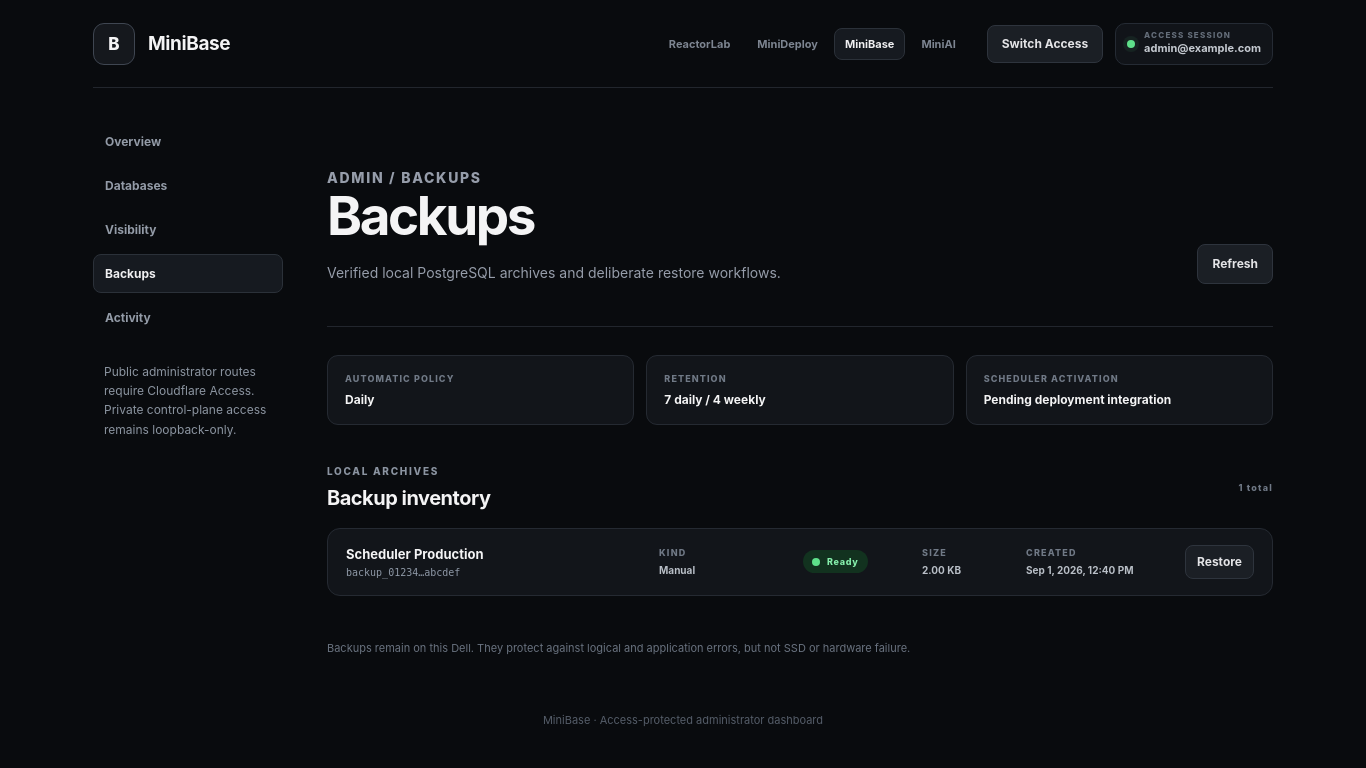
MiniBase dashboard › restore dialog defaults to safe new-database mode
The image size is (1366, 768).
Click the button "Restore" at point(1220, 562), box 1185,545 -> 1254,579
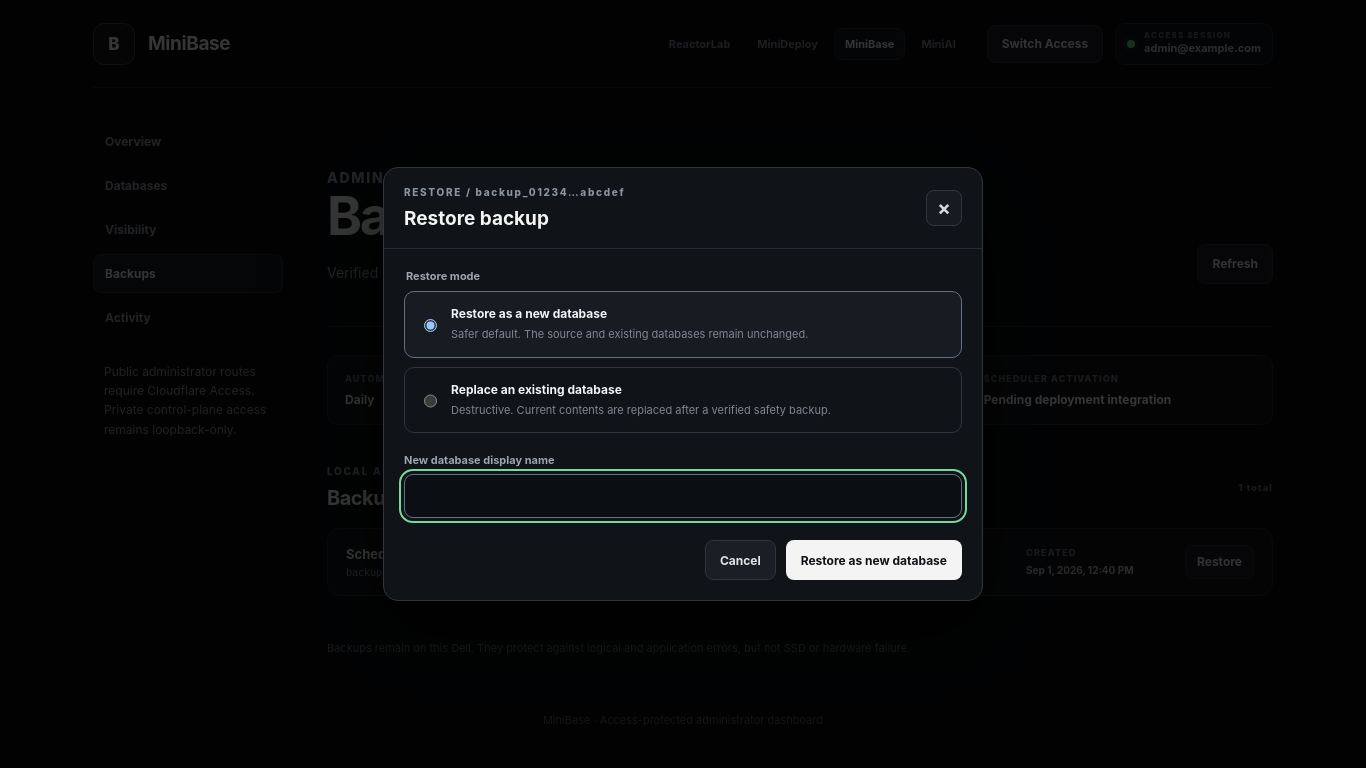
expect the radio button labelled "Restore as a new database" is checked: met, box 424,308 -> 437,342
Type "  Recovered Database  " into the field labelled "New database display name" at point(683, 496), box 404,474 -> 962,518
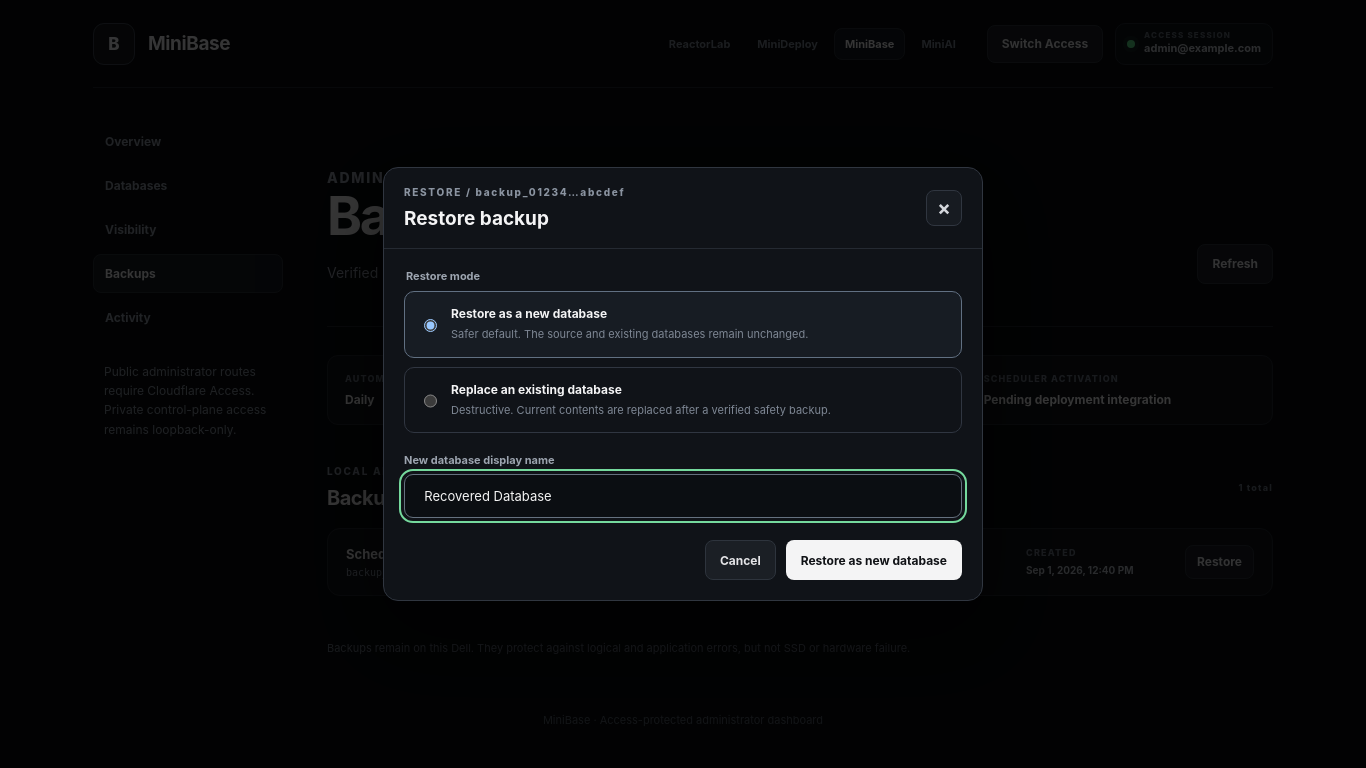
Click the button "Restore as new database" at point(874, 560), box 786,540 -> 962,580
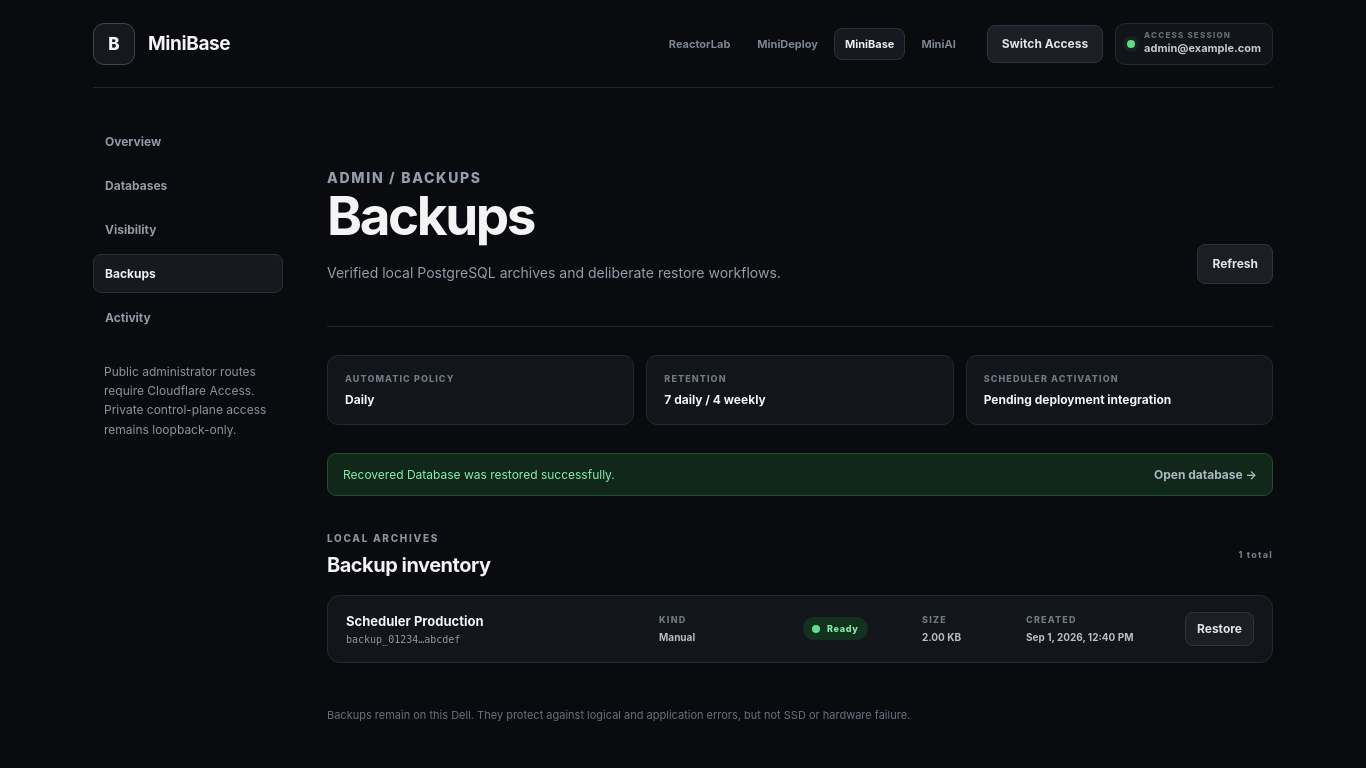
expect the text "Recovered Database was restored successfully." is shown: met, box 343,467 -> 615,482
